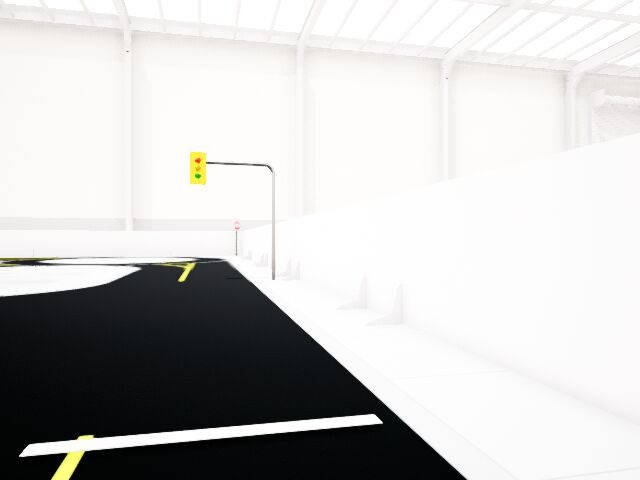red: (189, 151, 206, 184)
